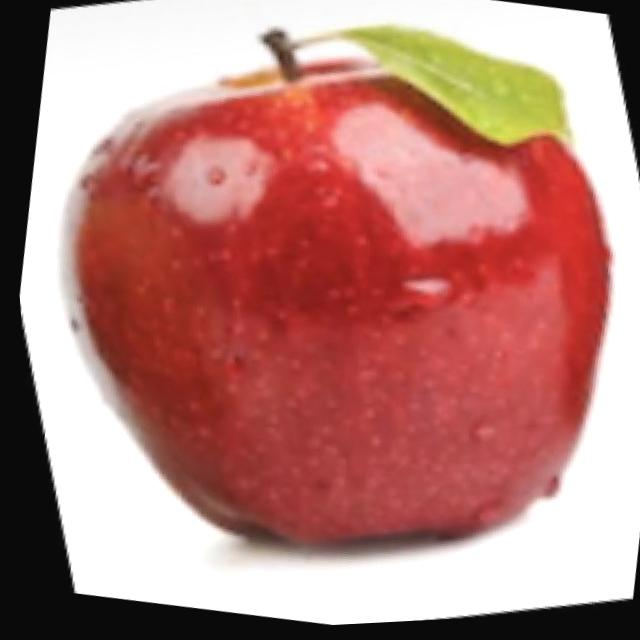Apple: (2, 0, 640, 607)
